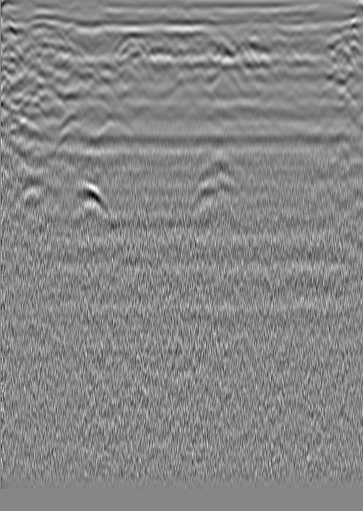가스: (65, 177, 109, 224)
상수: (325, 22, 345, 42)
오수: (17, 28, 37, 48)
우수: (200, 39, 220, 59)
